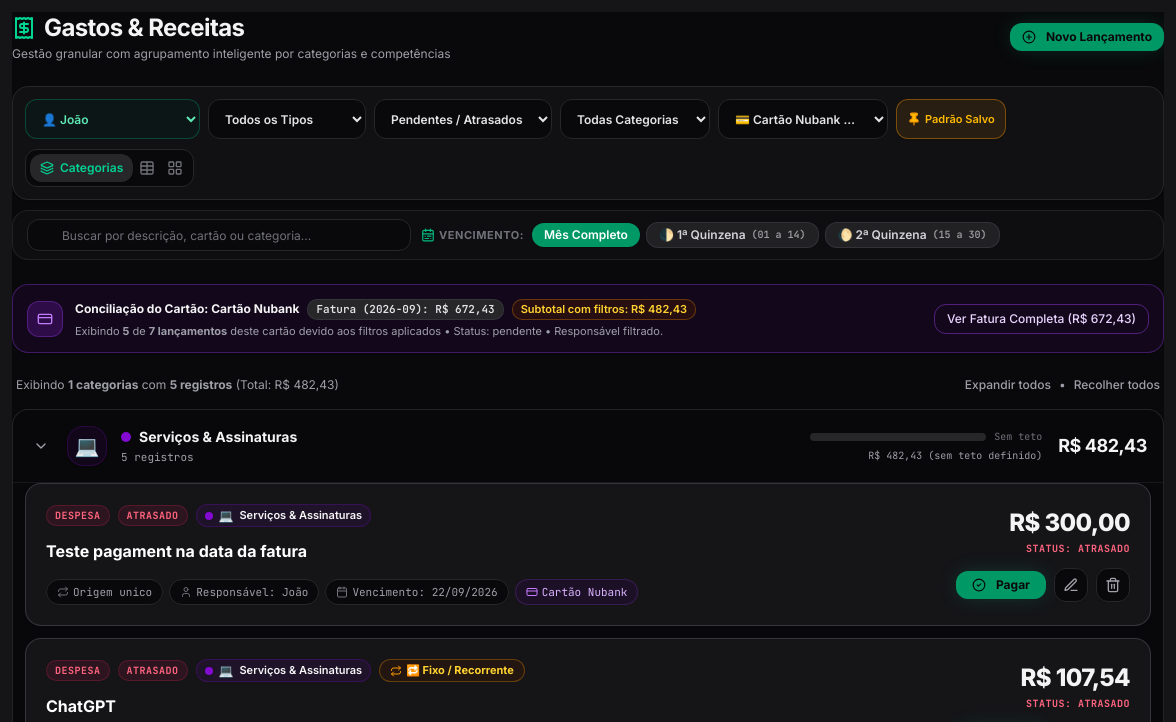
Test: Reconciliação e Conformidade: Fatura de Cartão vs Gastos e Receitas › CT001: Conferência em Gastos e Receitas › exibe subtotal de R$ 482,43 quando filtrado por Nubank e status pendente/responsável João, informando o valor consolidado da fatura de R$ 672,43
Expected: the element with test id "card-reconciliation-banner" is shown, 12,284 -> 1164,353
Expected: the element with test id "card-reconciliation-banner" shows "482,43", 631,302 -> 687,316
Ao clicar em "Ver Fatura Completa", redefine os filtros para conformidade total
Click the button "Ver Fatura Completa (R$ 672,43)" at (1041, 319), box 934,304 -> 1149,334
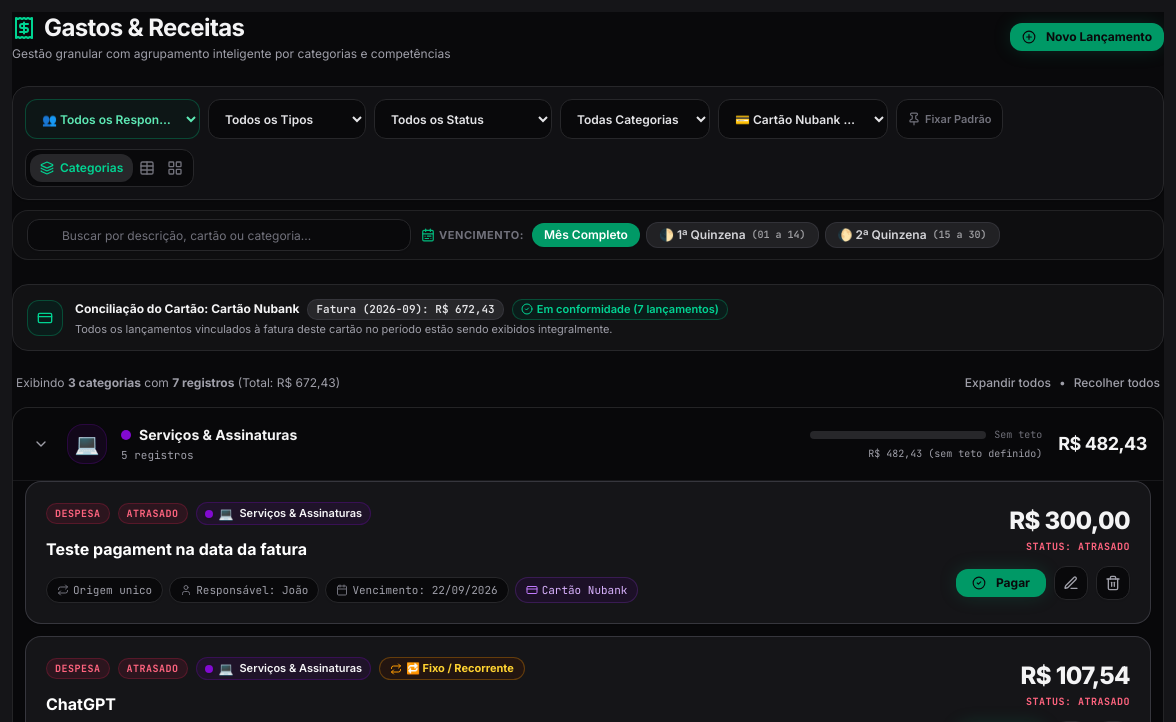
Result: the text "Em conformidade (7 lançamentos)" is shown at 512,299 -> 728,320
